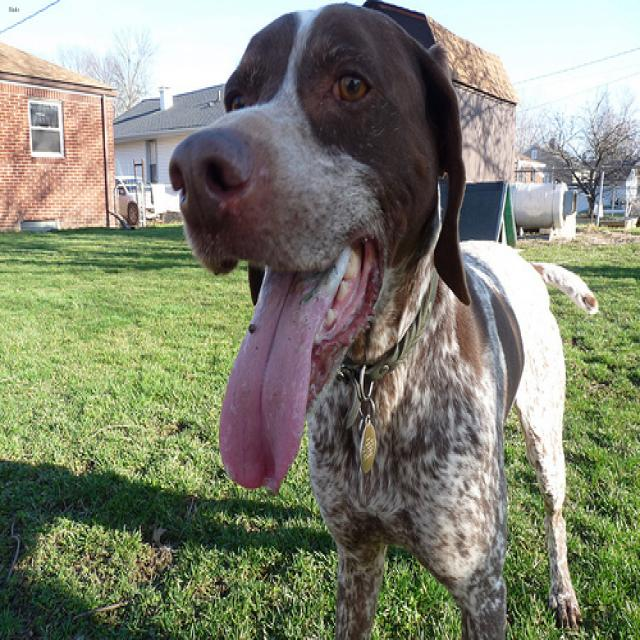dog-german_shorthaired: (161, 2, 609, 637)
